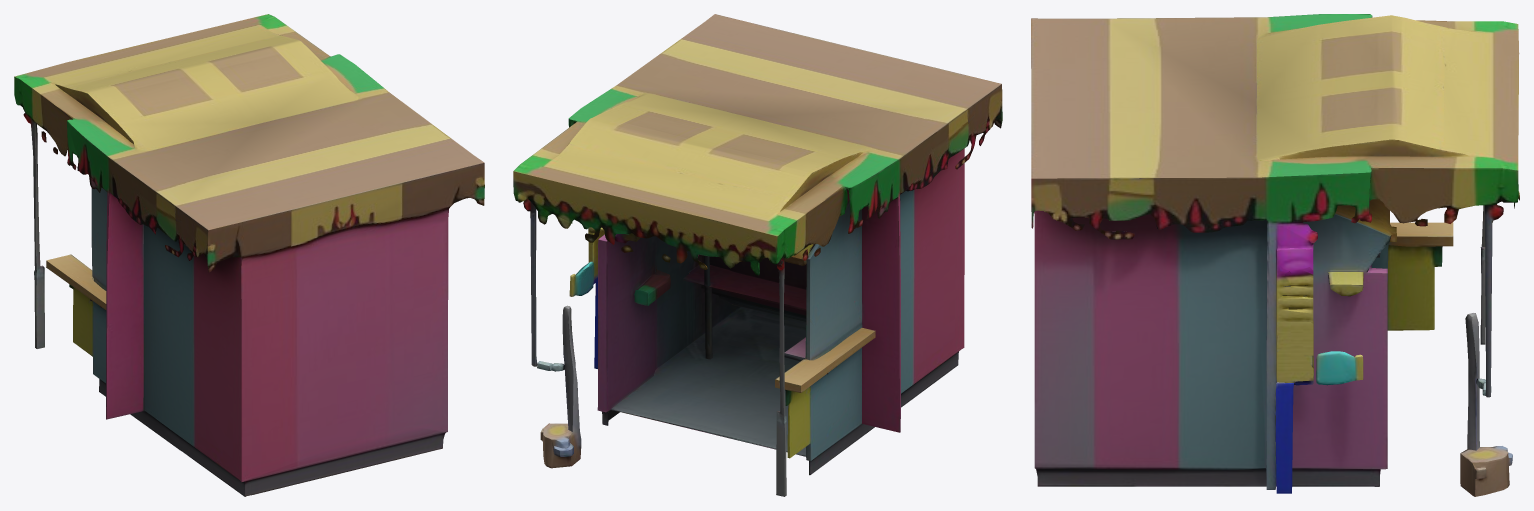
File: kiosk_tex.glb
The picture shows the model from 3 angles, left to right: view 1: azimuth 30°, elevation 25°; view 2: azimuth 150°, elevation 25°; view 3: azimuth 270°, elevation 25°; orthographic projection. The views are drawn at different scales.
Visible parts, largest first — view 1: kiosk; view 2: kiosk; view 3: kiosk.
Part boxes in pixels (bbox=[...]): kiosk: bbox=[14, 14, 484, 496]; kiosk: bbox=[513, 14, 1002, 496]; kiosk: bbox=[1031, 14, 1519, 496].
Bounding box in the file's own units: 1 × 0.9998 × 1.26.
1 material, 1 textured.
